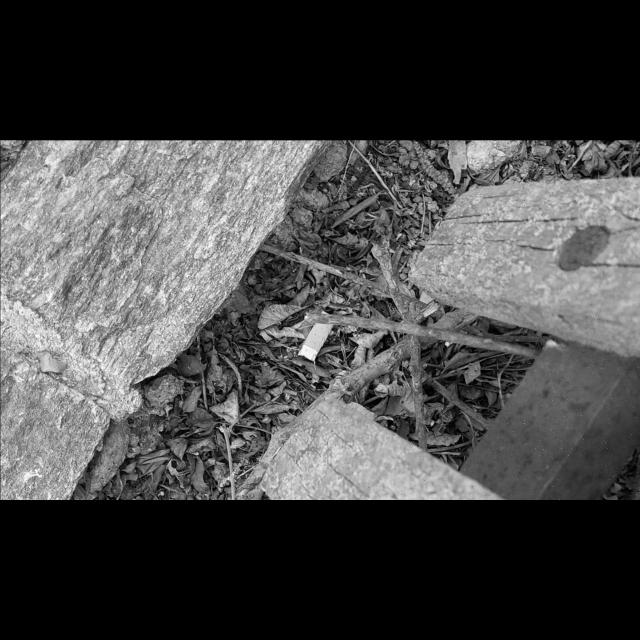cigarette: (297, 310, 334, 361)
